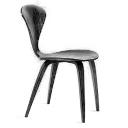chair_success: (12, 1, 110, 124)
